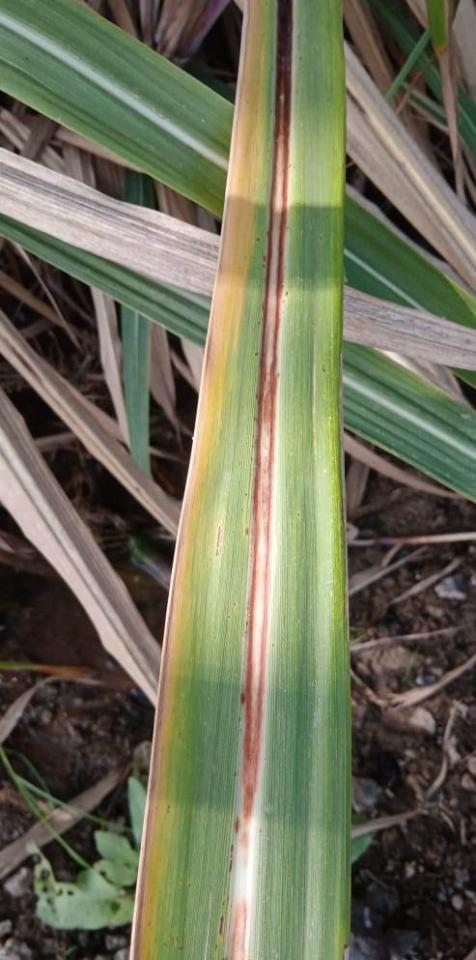RedRot: (234, 0, 292, 867), (226, 898, 249, 959)
